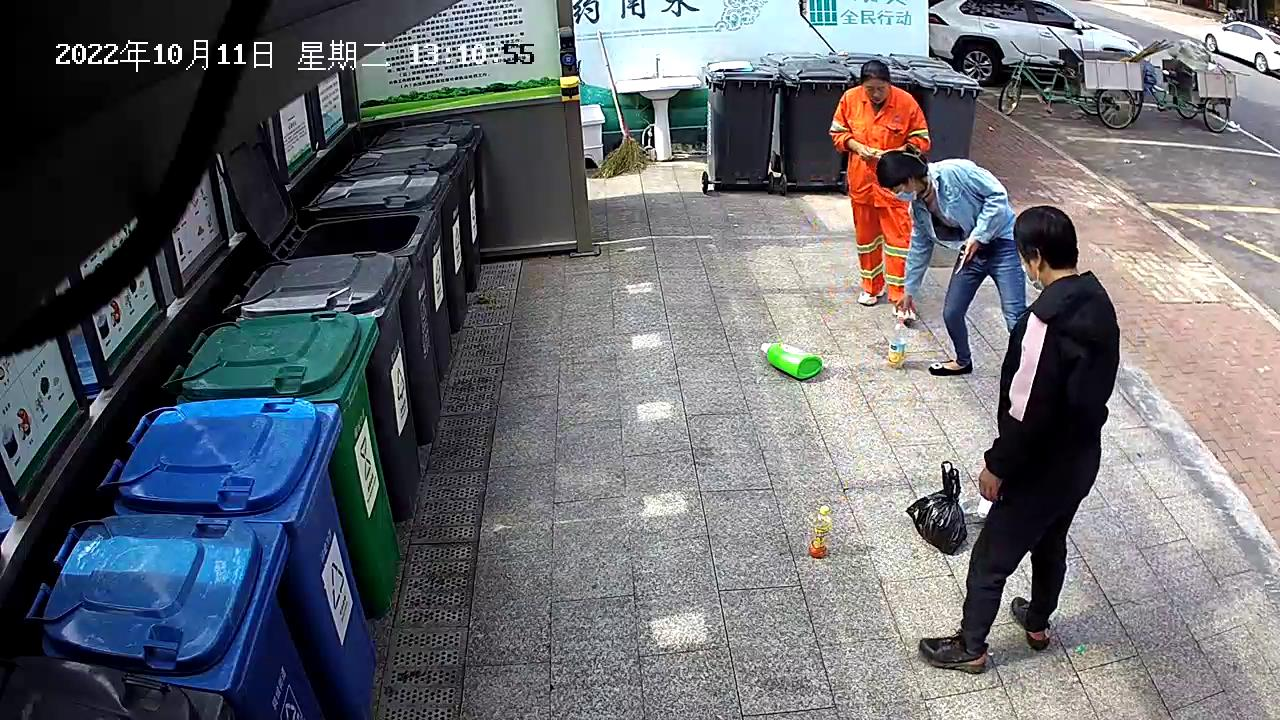garbage-bag: (903, 460, 968, 555)
person: (918, 202, 1122, 677)
suliaozhipin: (756, 338, 825, 381), (805, 502, 833, 559), (885, 316, 910, 371)
worker: (873, 143, 1031, 376), (826, 58, 931, 321)
